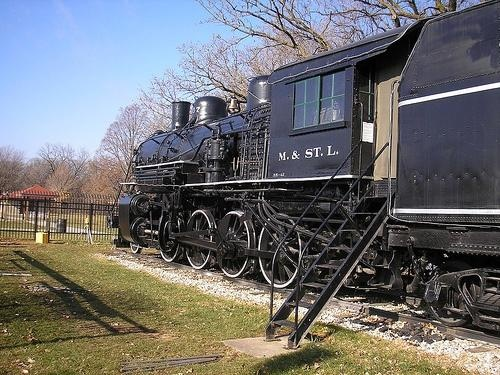train: (118, 2, 500, 344)
